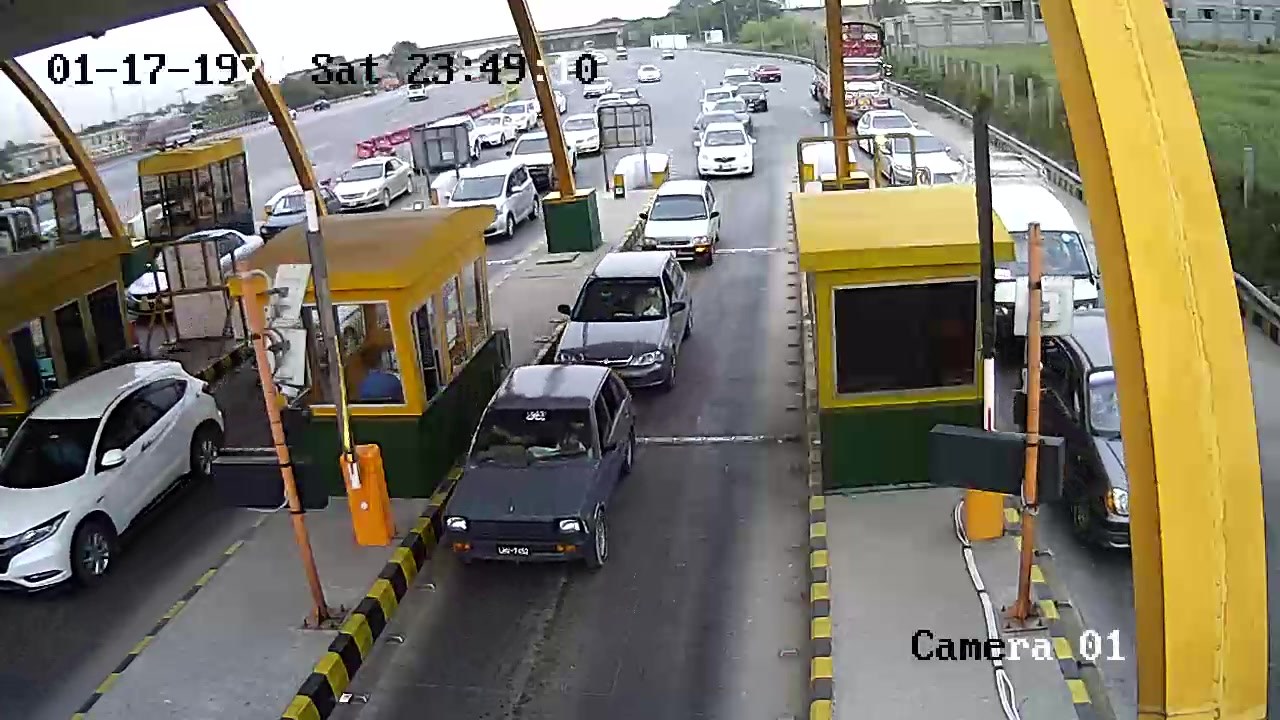F1: (438, 364, 642, 583)
